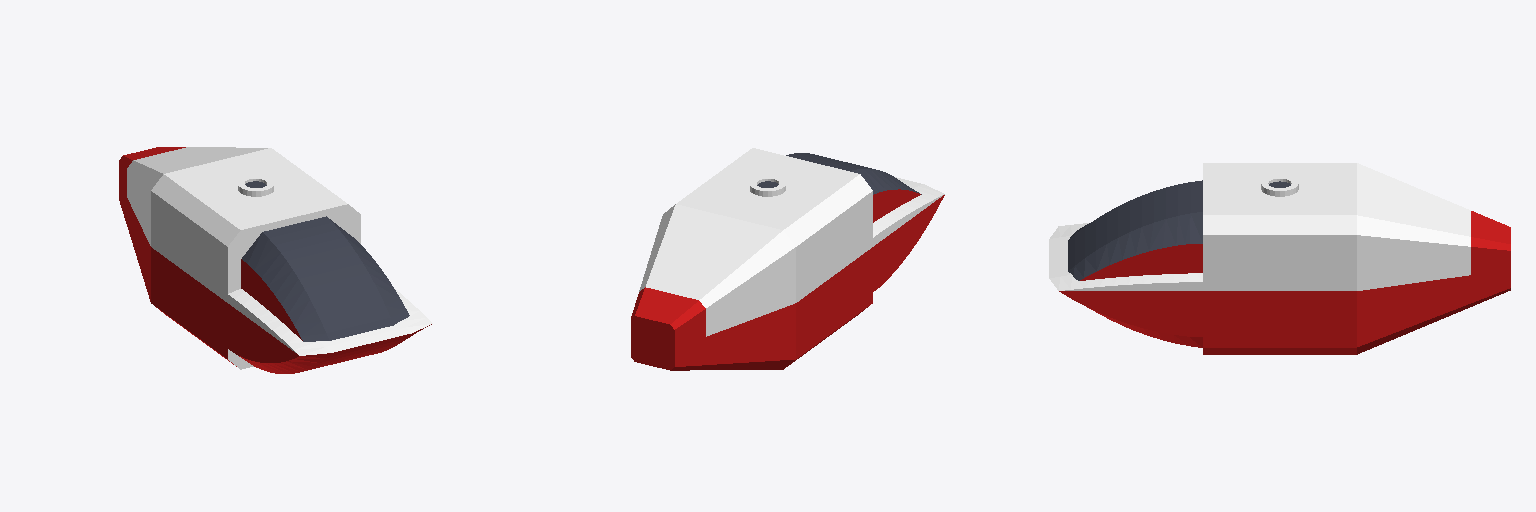
The model's file is BGFreighterZ1F.obj.
The picture shows the model from 3 angles: view 1: azimuth 30°, elevation 25°; view 2: azimuth 150°, elevation 25°; view 3: azimuth 270°, elevation 25°; orthographic projection.
Size of the model in its own units: 1 by 1.04 by 3.